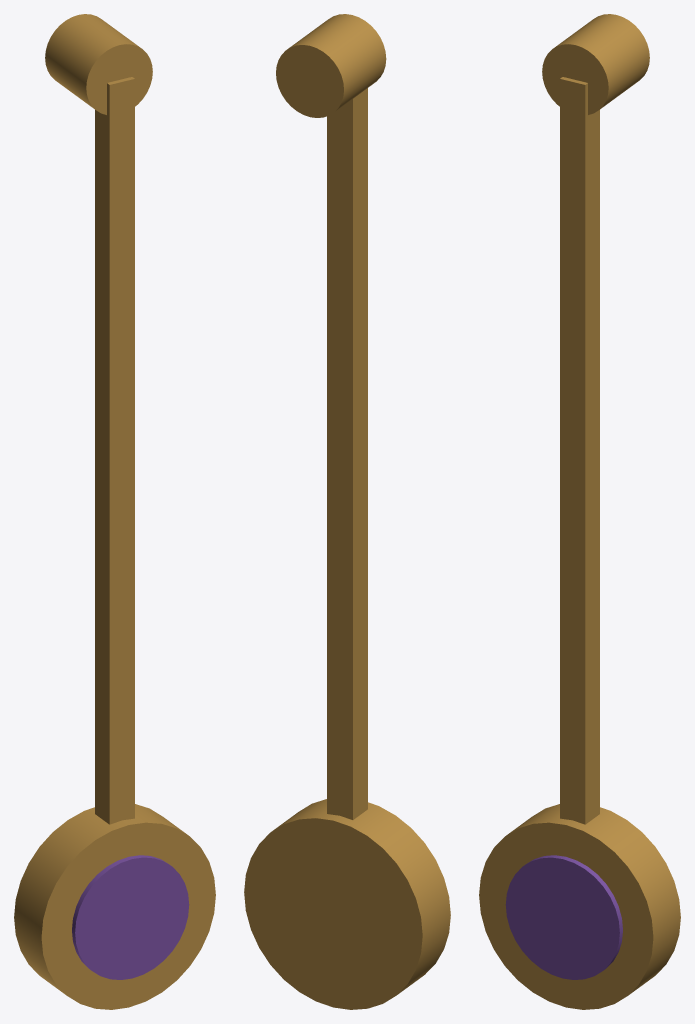
File: balance-pointer.glb
3 renders of one model, left to right at view 1: azimuth 30°, elevation 25°; view 2: azimuth 150°, elevation 25°; view 3: azimuth 330°, elevation 25°, orthographic. The views are drawn at different scales.
Visible parts, largest first — view 1: pointer-rod, pointer-bob, pointer-face, pointer-hub; view 2: pointer-bob, pointer-rod, pointer-hub; view 3: pointer-rod, pointer-bob, pointer-face, pointer-hub.
Part boxes in pixels (x1,y1,x2,y2): pointer-rod: (95,77,134,824); pointer-bob: (14,804,215,1009); pointer-face: (72,855,189,979); pointer-hub: (45,14,152,114); pointer-bob: (244,799,450,1009); pointer-rod: (327,88,367,819); pointer-hub: (276,14,386,117); pointer-rod: (560,77,599,824); pointer-bob: (479,804,680,1009); pointer-face: (505,855,622,979); pointer-hub: (542,14,649,114).
Bounding box in the file's own units: 1.1 × 5.76 × 0.5875.
